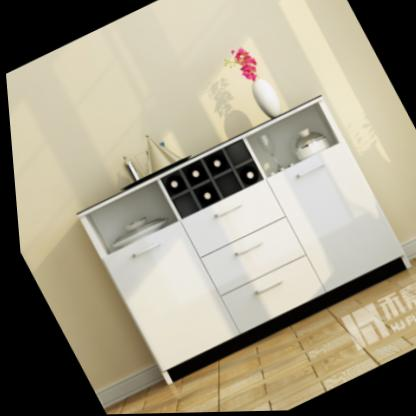Cupboard: (62, 93, 416, 390)
